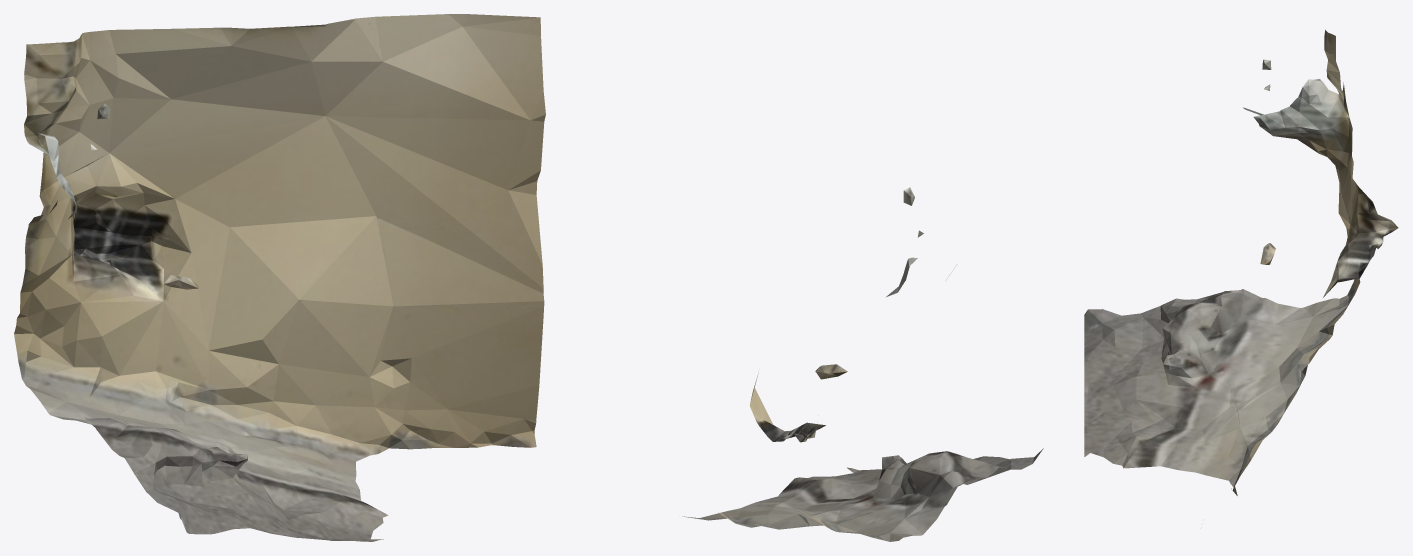
The picture shows the model from 3 angles, left to right: view 1: azimuth 30°, elevation 25°; view 2: azimuth 150°, elevation 25°; view 3: azimuth 270°, elevation 25°; orthographic projection. The views are drawn at different scales.
Bounding box in the file's own units: 3.35 × 3.35 × 2.65.
Materials: 3 (3 with a texture image).
